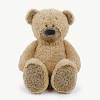teddy: (13, 4, 87, 96)
